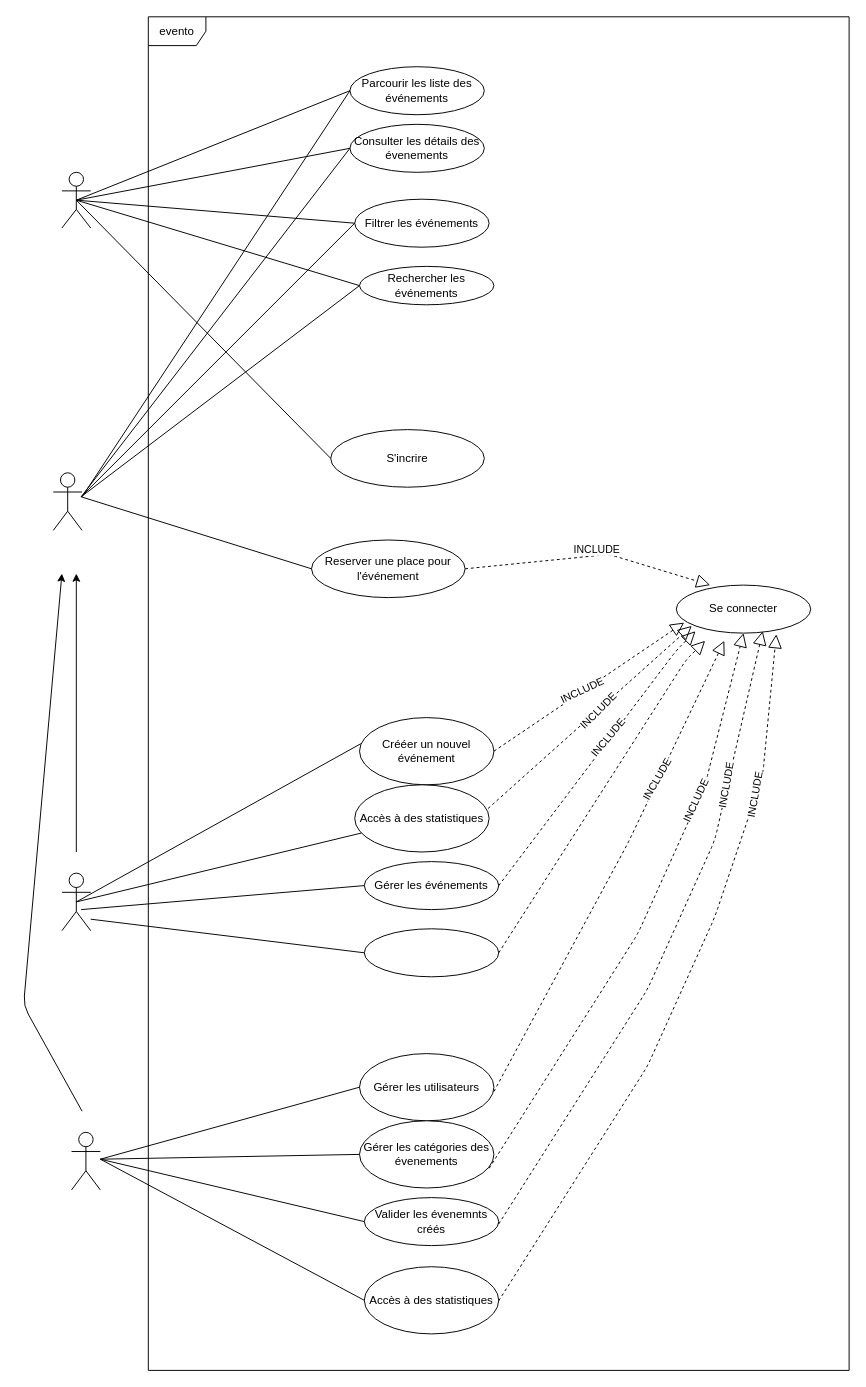
The diagram is 866 pixels wide and 1387 high, and some of its shapes have lost their labels. The centre of each missing label's shape, as x and y in pixels:
"accepter reservation" belongs at (x=431, y=952).
"Admin" belongs at (x=85, y=1160).
"Organisateur" belongs at (x=76, y=901).
"Utilisateur" belongs at (x=67, y=501).
"Visiteur" belongs at (x=76, y=199).
